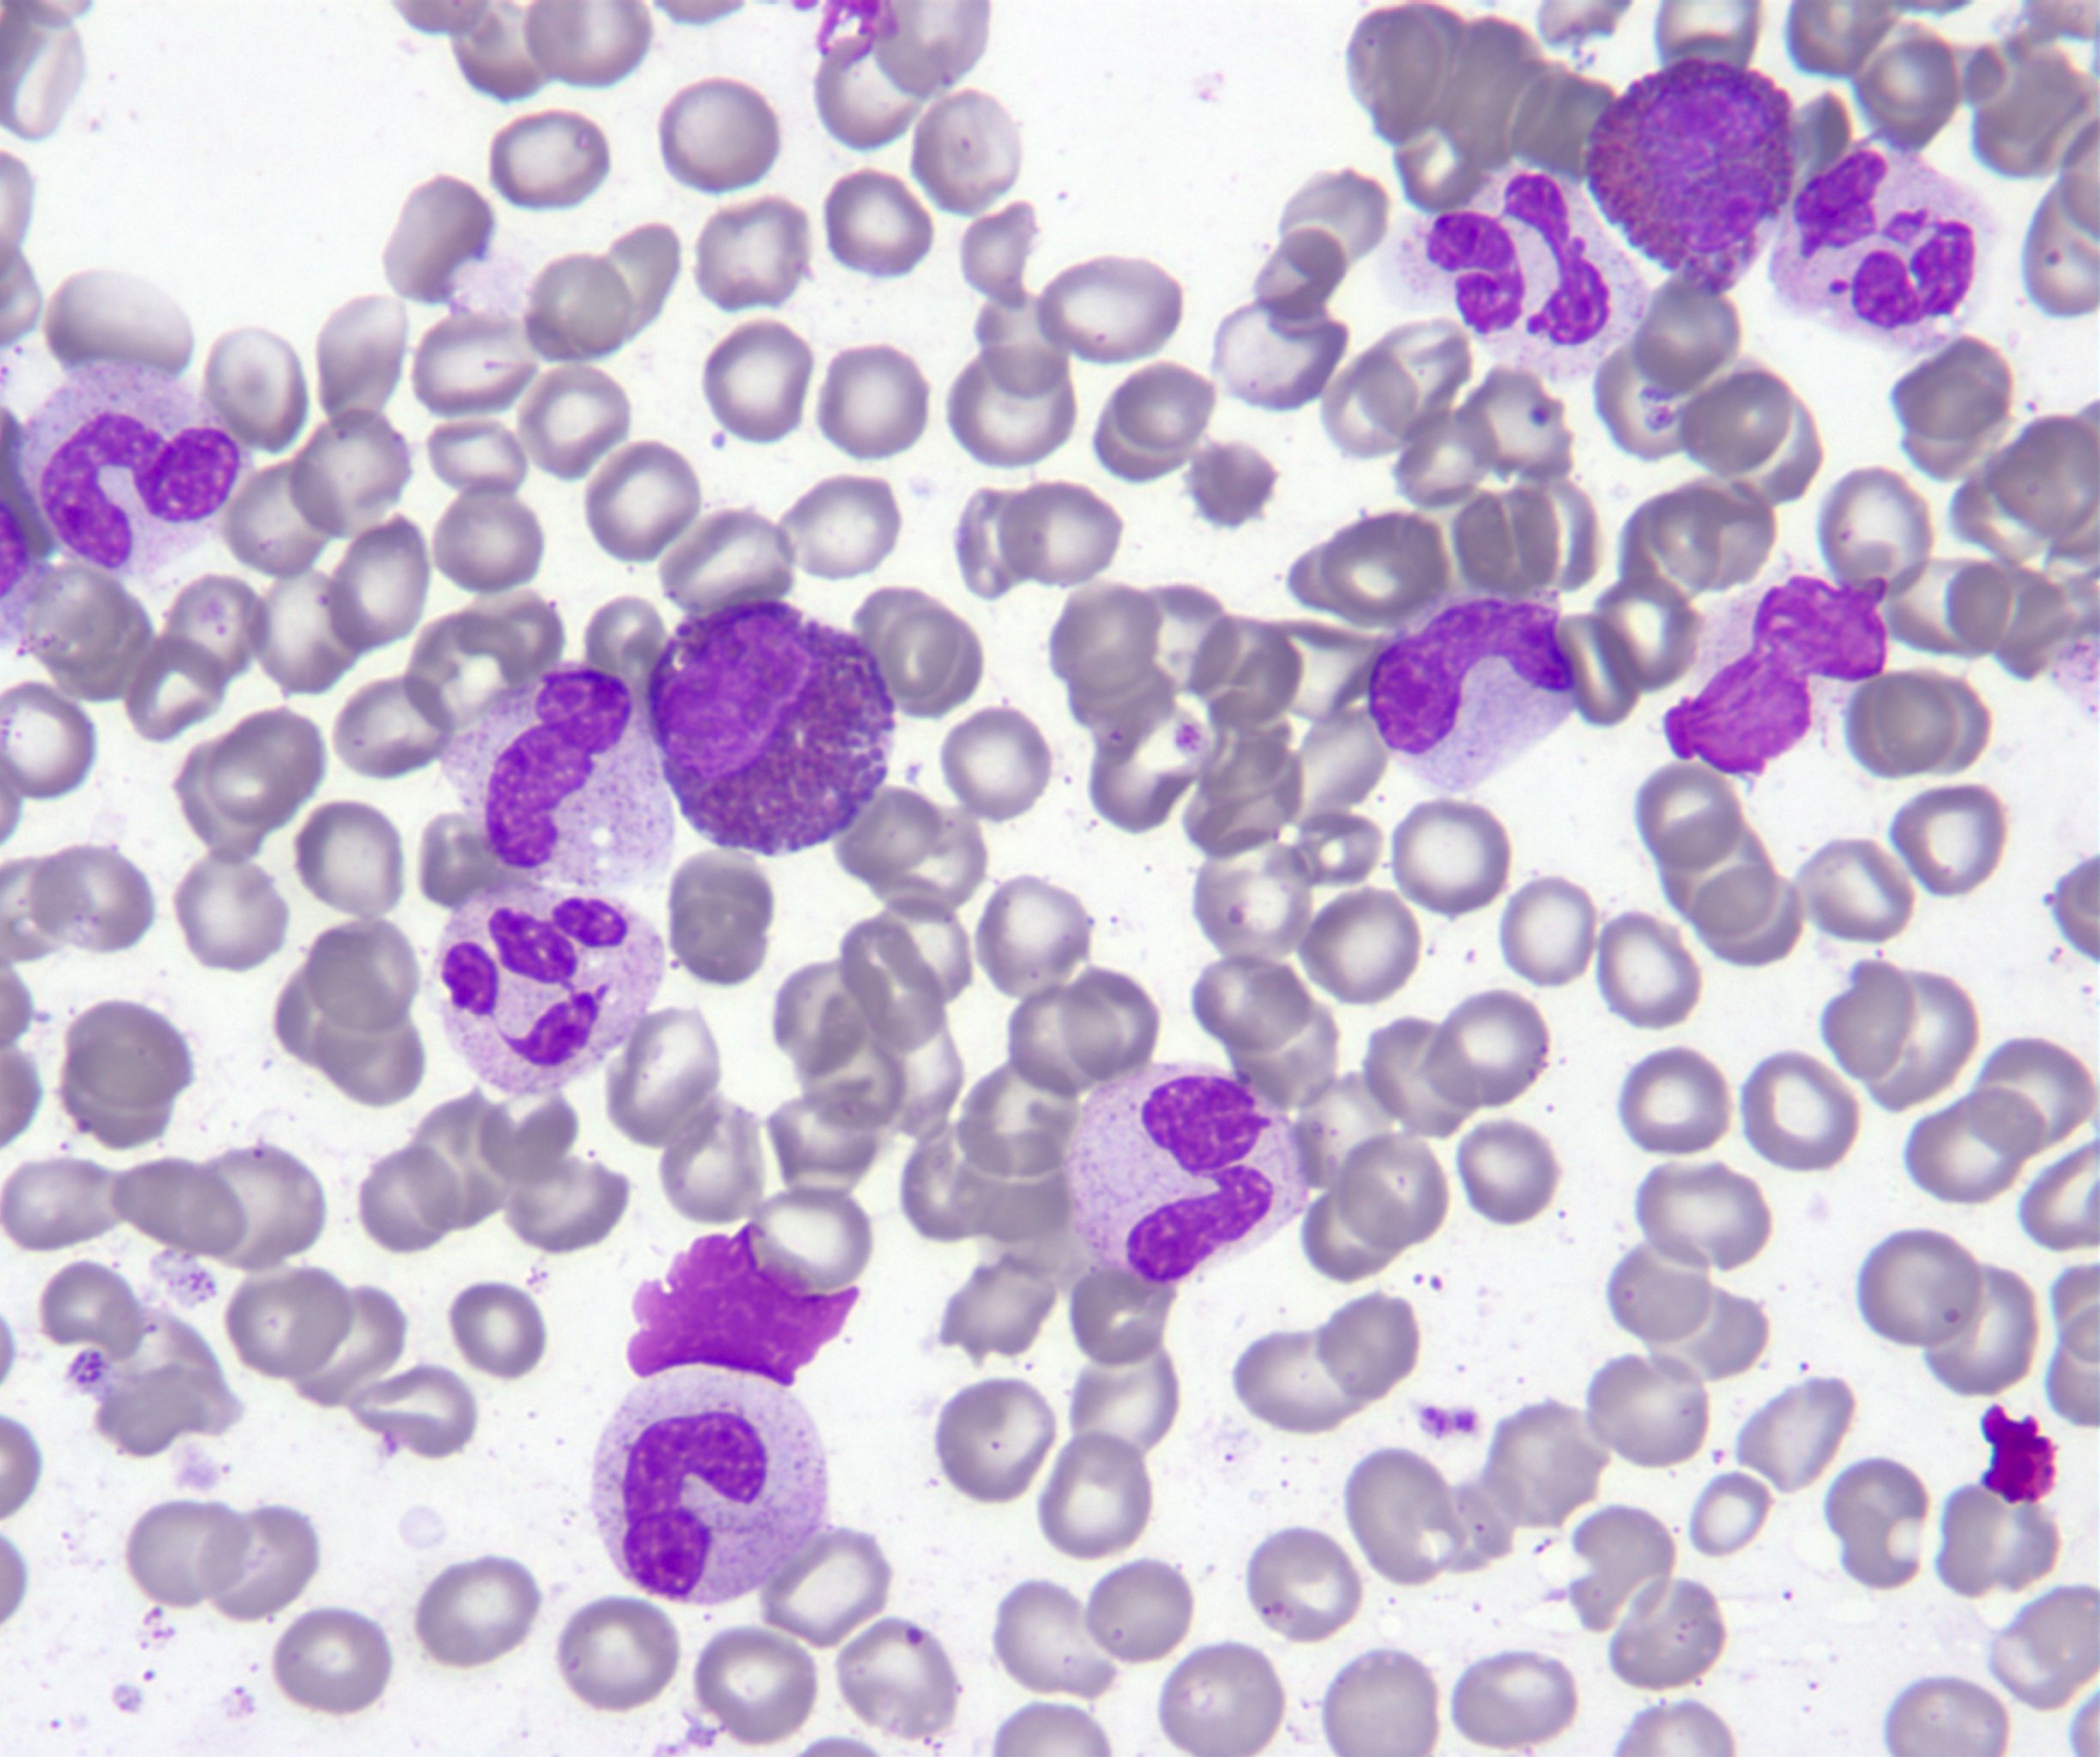5: (593, 1364, 827, 1603), (1060, 1064, 1308, 1284), (440, 663, 673, 885), (17, 359, 253, 572), (1367, 586, 1578, 790)
6: (1383, 161, 1647, 382), (427, 883, 663, 1096), (1769, 133, 1992, 352)
E2: (645, 600, 893, 855)
E4: (1589, 58, 1797, 293)
x: (1664, 578, 1887, 776), (628, 1221, 858, 1385)
